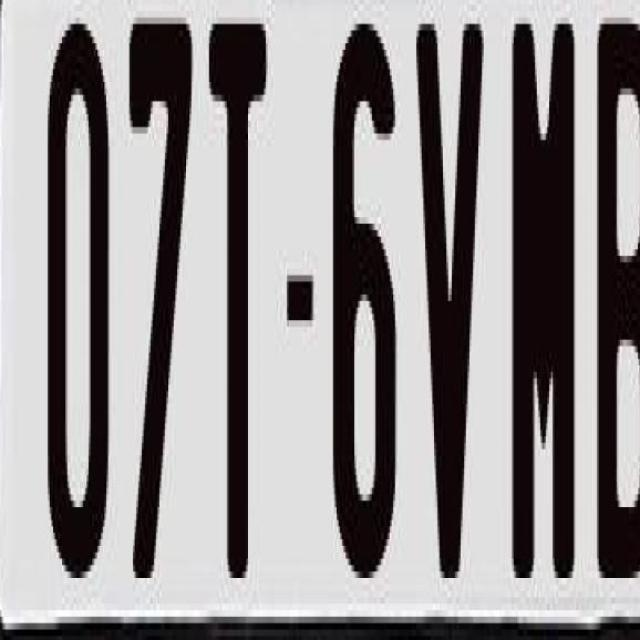license-plate: (2, 14, 640, 611)
